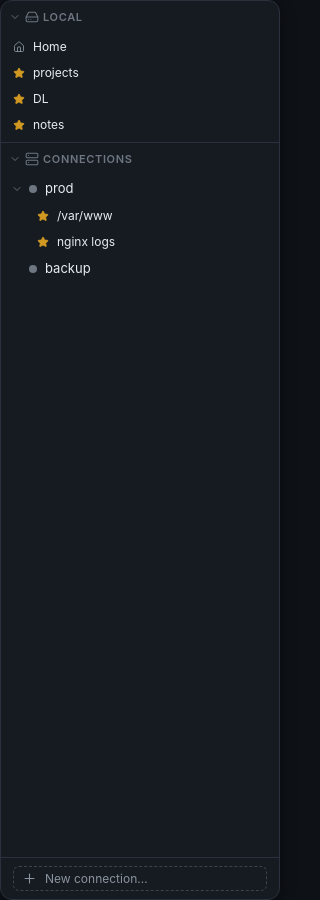
Test: the Local section › lists Home first, then the Local favorites by name or label
Home cannot be renamed or removed.
Right-click the button "Home" at (40, 46), box x1=13 y1=38 x2=67 y2=54
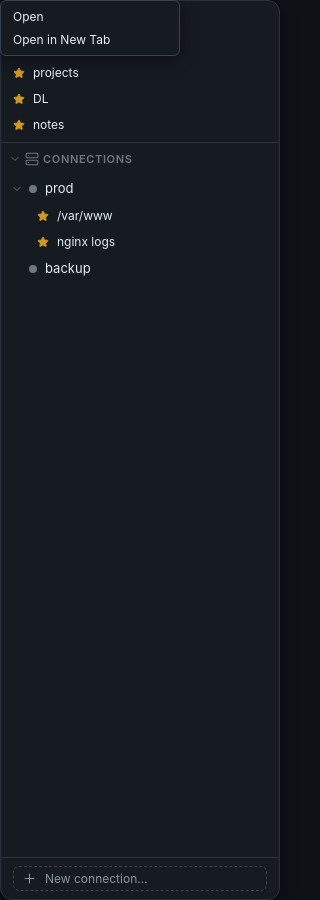
Check: the menu items read "Open", "Open in New Tab", in this order, box x1=5 y1=5 x2=175 y2=28; x1=5 y1=28 x2=175 y2=51
